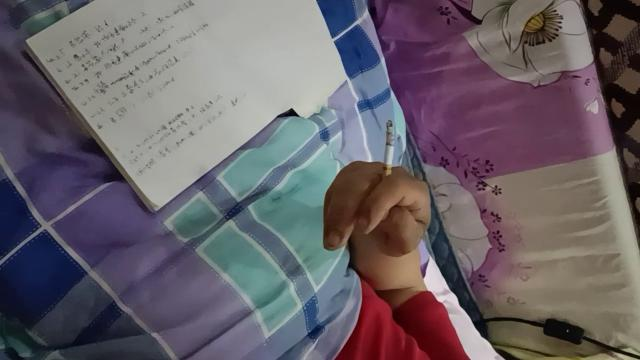Cigarette: (379, 120, 395, 195)
